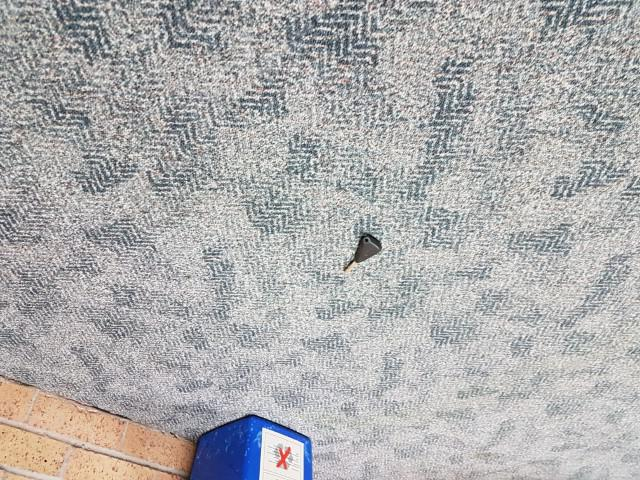key: (333, 230, 387, 279)
